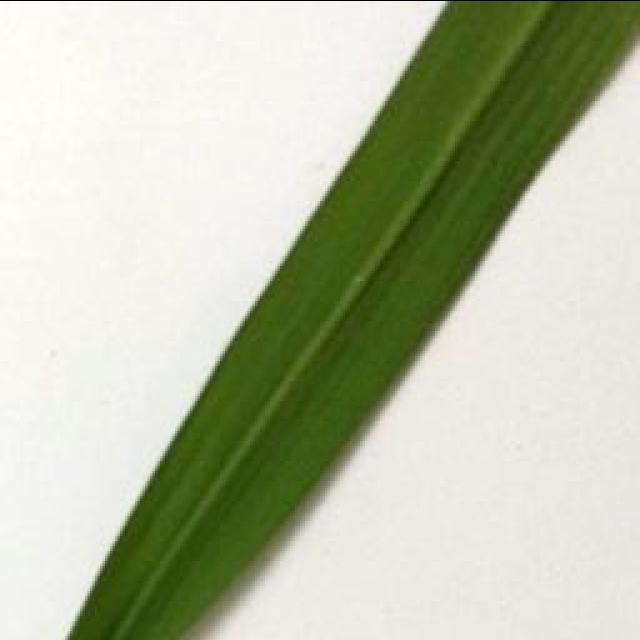Healthy: (62, 0, 640, 640)
